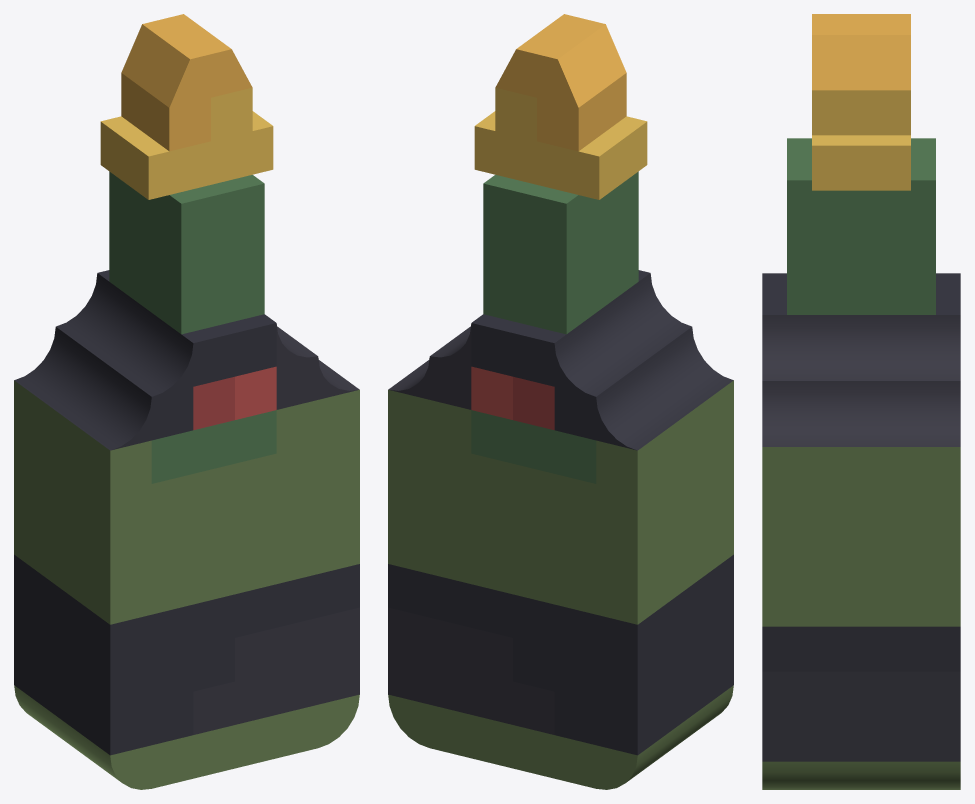
File: champagne.glb
3 renders of one model, left to right at view 1: azimuth 30°, elevation 25°; view 2: azimuth 150°, elevation 25°; view 3: azimuth 270°, elevation 25°, orthographic. The views are drawn at different scales.
Parts seen in each view (by area): view 1: generated(Clone); view 2: generated(Clone); view 3: generated(Clone).
Part boxes in pixels (x1,y1,x2,y2): generated(Clone): (14, 14, 359, 789); generated(Clone): (388, 14, 733, 789); generated(Clone): (762, 14, 960, 789).
Size of the model in its own units: 3 by 8 by 2.
1 material, 1 textured.
